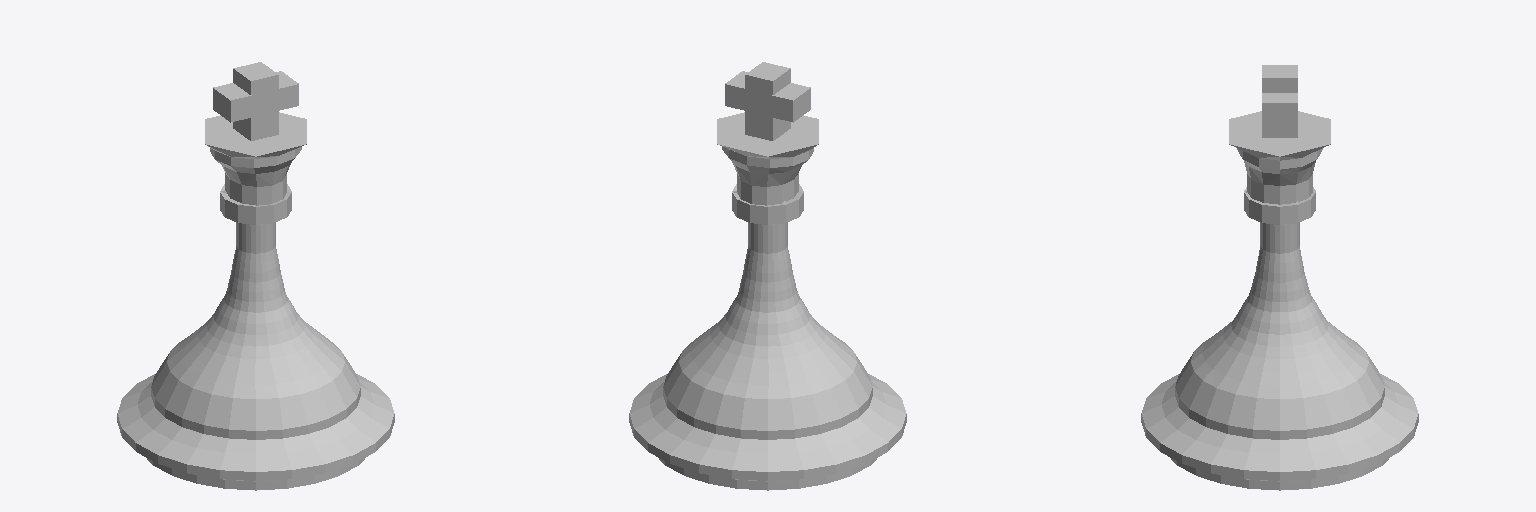
File: king.obj
3 renders of one model, left to right at view 1: azimuth 30°, elevation 25°; view 2: azimuth 150°, elevation 25°; view 3: azimuth 270°, elevation 25°, orthographic.
Bounding box in the file's own units: 4.68 × 6.87 × 4.68.